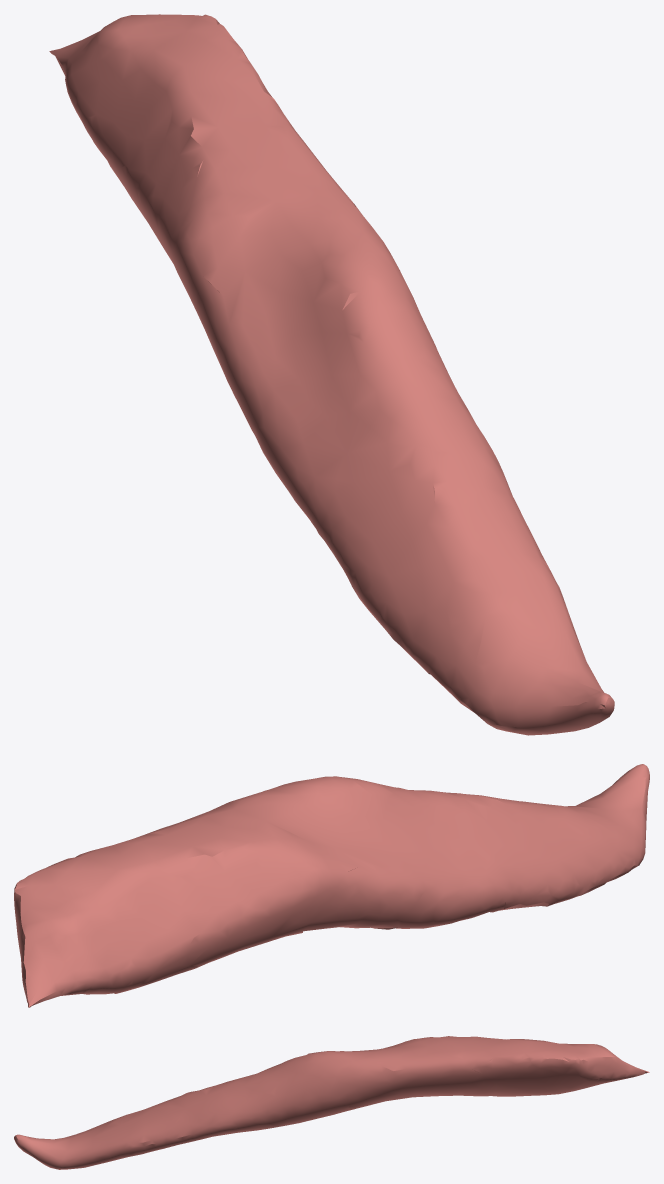
File: fma46018_mm1728m.glb
The picture shows the model from 3 angles, top to bottom: view 1: azimuth 30°, elevation 25°; view 2: azimuth 150°, elevation 25°; view 3: azimuth 270°, elevation 25°; orthographic projection. The views are drawn at different scales.
Visible parts, largest first — view 1: FMA46018_MM1728M; view 2: FMA46018_MM1728M; view 3: FMA46018_MM1728M.
Part boxes in pixels (x1,y1,x2,y2): FMA46018_MM1728M: [49, 14, 614, 735]; FMA46018_MM1728M: [14, 764, 649, 1007]; FMA46018_MM1728M: [14, 1036, 649, 1169].
Bounding box in the file's own units: 0.018 × 0.0216 × 0.0826.
